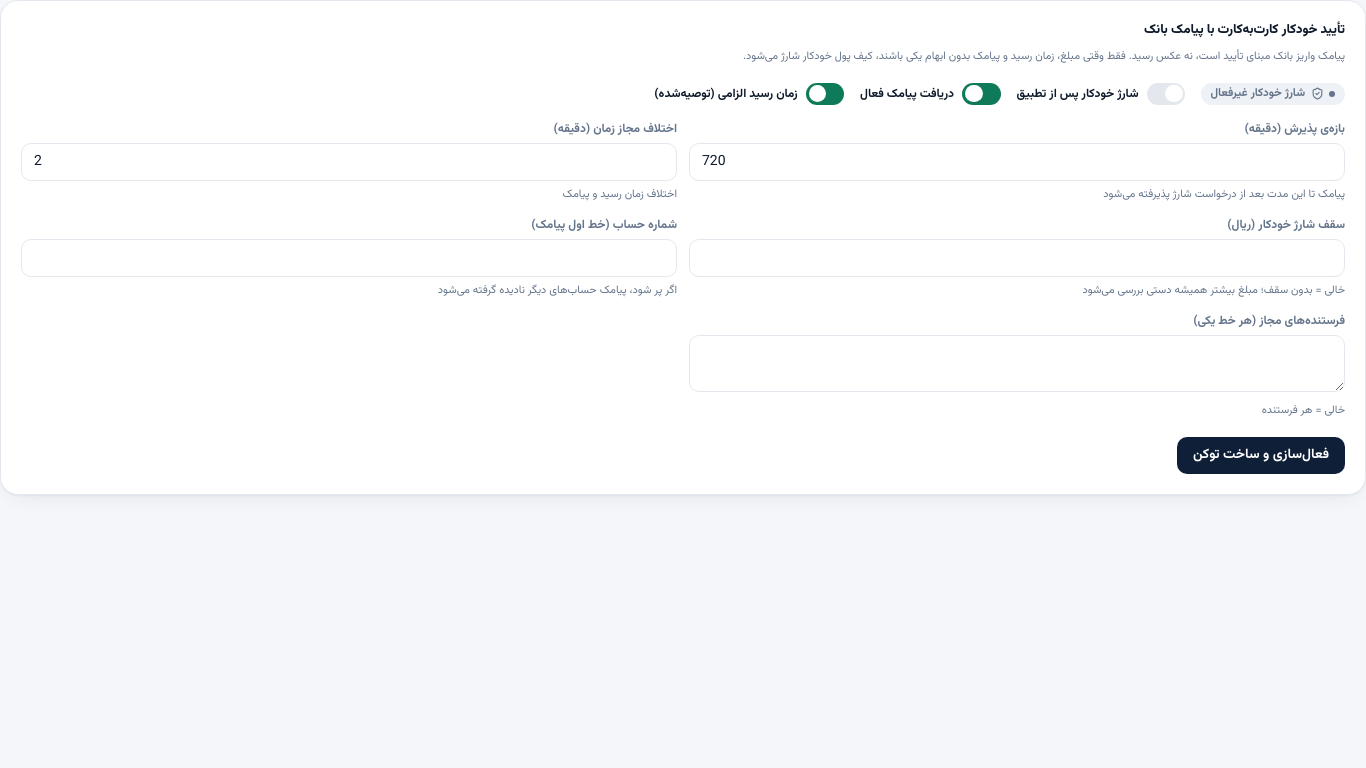
admin bank-SMS auto verification panel › shows the one-time token after the first activation and never asks for it again
This screenshot has width=1366, height=768.
Click the button "فعال‌سازی و ساخت توکن": (1261, 456) [1177, 437, 1345, 474]
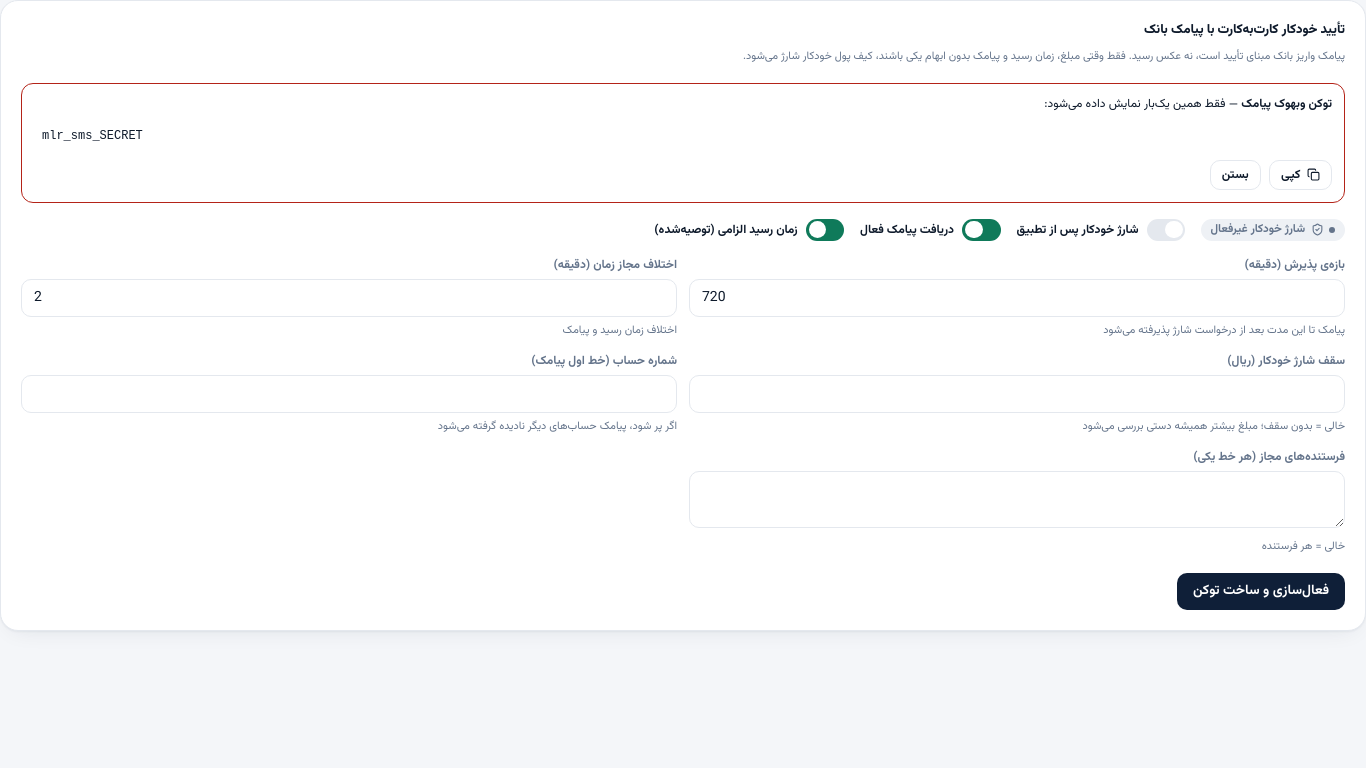
Result: the text "mlr_sms_SECRET" is shown at [42, 128, 143, 142]
